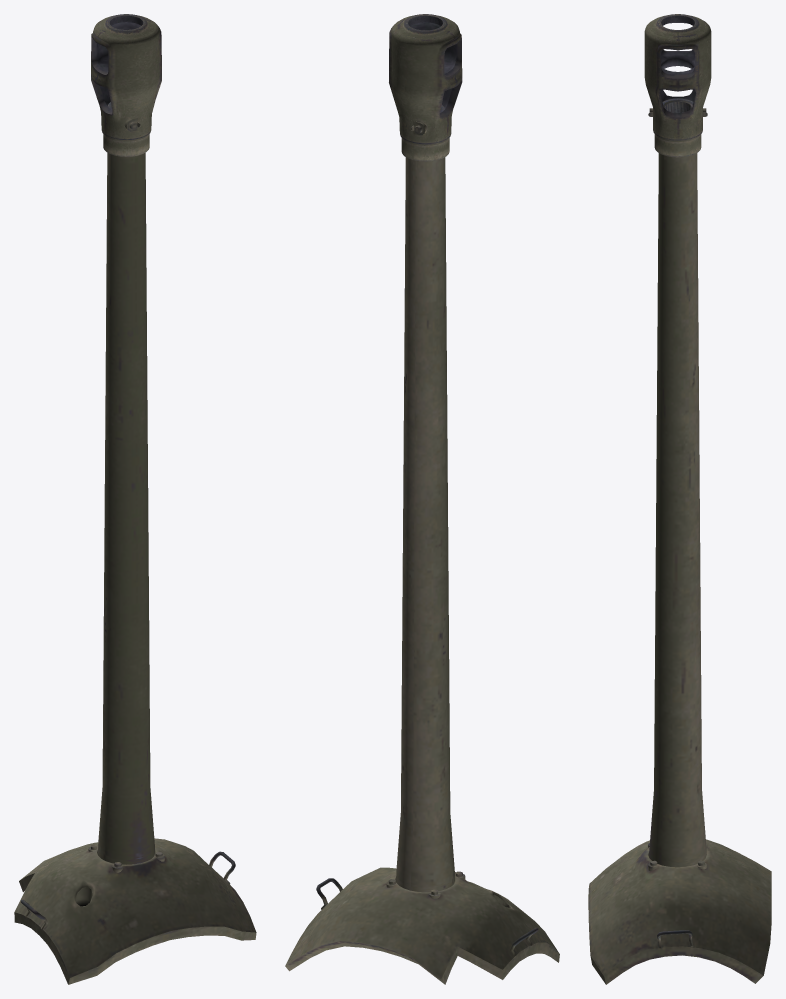
The model's file is Gun_03.glb.
3 renders of one model, left to right at view 1: azimuth 30°, elevation 25°; view 2: azimuth 150°, elevation 25°; view 3: azimuth 270°, elevation 25°, orthographic. The views are drawn at different scales.
Parts seen in each view (by area): view 1: set_0_group_0; view 2: set_0_group_0; view 3: set_0_group_0.
Boxes of the visible parts, box(x1,y1,x2,y2) form: set_0_group_0: box(14, 14, 256, 984); set_0_group_0: box(285, 14, 559, 984); set_0_group_0: box(588, 14, 771, 984).
Bounding box in the file's own units: 1.06 × 4.56 × 0.8264.
1 material, 1 textured.
